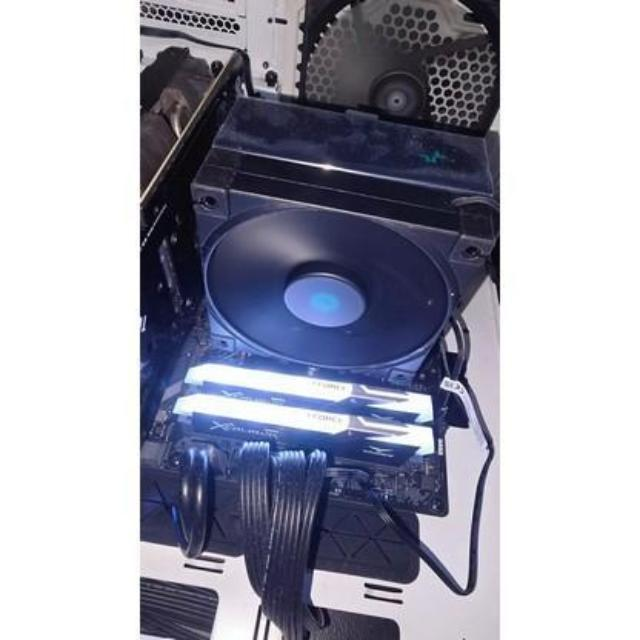CPU_Fan: (198, 78, 500, 384)
